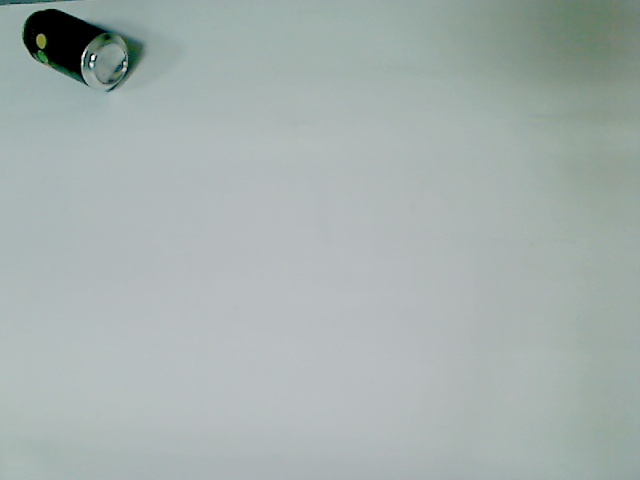can: (21, 7, 133, 91)
